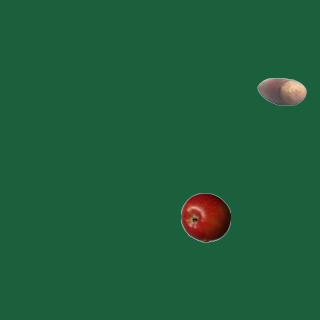Apple Braeburn: (180, 192, 230, 242)
Hazelnut: (256, 66, 306, 116)
